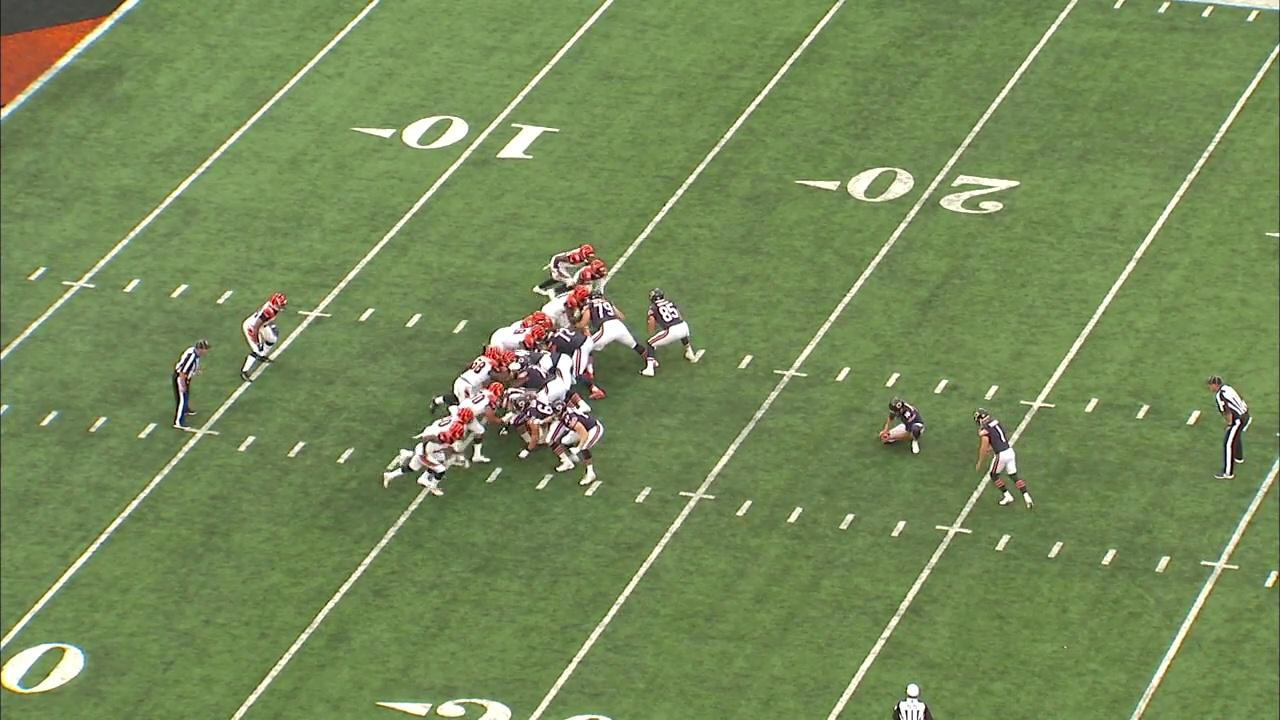five_hash: (1201, 559, 1240, 572), (935, 523, 974, 535), (1019, 398, 1056, 409), (184, 425, 220, 436), (60, 279, 96, 289), (773, 368, 808, 378), (680, 490, 715, 500), (297, 309, 332, 318)
hash: (25, 266, 49, 281), (287, 439, 305, 459), (1132, 403, 1151, 421), (484, 467, 503, 485), (534, 474, 553, 492), (836, 512, 854, 531), (1100, 548, 1118, 567), (236, 434, 256, 451), (39, 409, 57, 427), (889, 519, 907, 537), (450, 318, 469, 335), (583, 480, 602, 497), (1082, 397, 1100, 414), (786, 506, 803, 524), (1154, 556, 1172, 573), (138, 423, 157, 439), (634, 485, 650, 504), (995, 534, 1012, 551), (89, 416, 107, 432), (836, 366, 852, 383), (1185, 410, 1202, 426), (735, 500, 752, 516), (1047, 542, 1063, 559), (883, 372, 901, 387), (406, 311, 422, 327), (338, 447, 354, 463), (1264, 571, 1280, 587), (358, 307, 375, 322), (123, 278, 141, 292), (217, 290, 233, 305), (738, 353, 753, 369), (171, 283, 188, 297), (933, 379, 949, 393), (985, 385, 999, 399)
number: (789, 159, 1028, 223), (349, 103, 564, 169)
